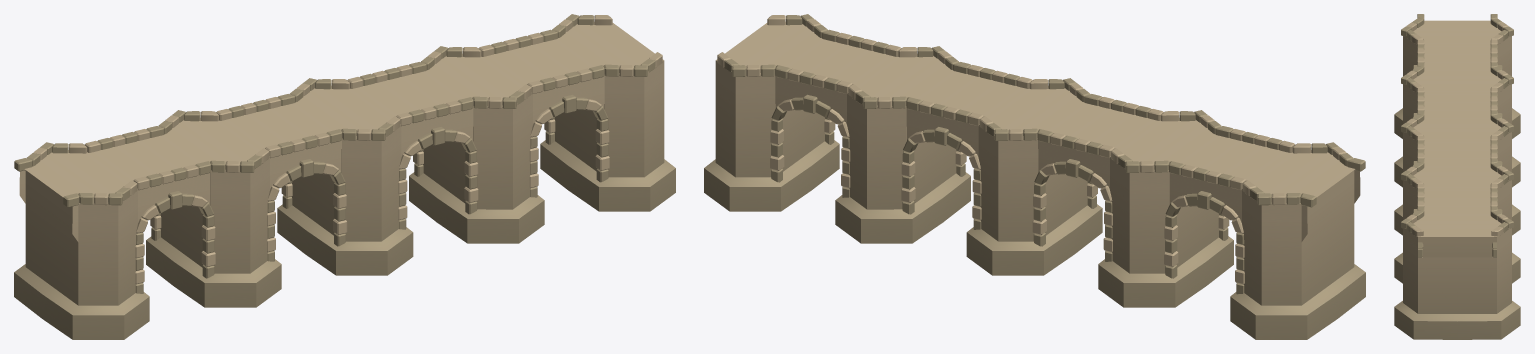
Rendered from Bridge.fbx.
The picture shows the model from 3 angles, left to right: view 1: azimuth 30°, elevation 25°; view 2: azimuth 150°, elevation 25°; view 3: azimuth 270°, elevation 25°; orthographic projection. The views are drawn at different scales.
Visible parts, largest first — view 1: Bridge; view 2: Bridge; view 3: Bridge.
Boxes of the visible parts, box(x1,y1,x2,y2) form: Bridge: box(14, 14, 675, 339); Bridge: box(704, 14, 1365, 339); Bridge: box(1394, 14, 1520, 339).
Bounding box in the file's own units: 855 × 187 × 206.
